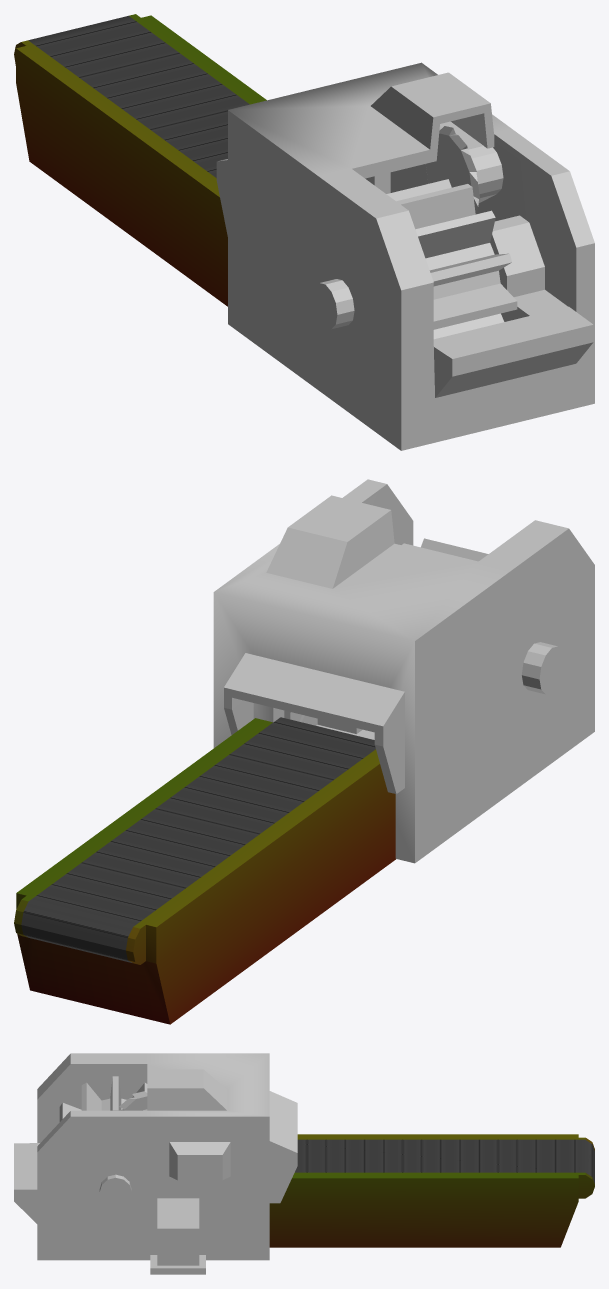
The model's file is stanok golovi.fbx.
3 views of the same model, one above another, from view 1: azimuth 30°, elevation 25°; view 2: azimuth 150°, elevation 25°; view 3: azimuth 270°, elevation 25° (orthographic). The views are drawn at different scales.
Visible parts, largest first — view 1: Object024, Object021, Object026, Object025; view 2: Object024, Object021, Object026; view 3: Object024, Object021, Object026, Object025.
Boxes of the visible parts, left/top/right/bottom form: Object024: left=14, top=14, right=594, bottom=450; Object021: left=28, top=15, right=249, bottom=177; Object026: left=313, top=179, right=517, bottom=339; Object025: left=425, top=125, right=480, bottom=214; Object024: left=14, top=479, right=594, bottom=1024; Object021: left=21, top=717, right=375, bottom=962; Object026: left=401, top=538, right=564, bottom=694; Object024: left=14, top=1053, right=594, bottom=1274; Object021: left=295, top=1139, right=594, bottom=1183; Object026: left=59, top=1076, right=147, bottom=1206; Object025: left=119, top=1091, right=147, bottom=1110.
Bounding box in the file's own units: 80.14 × 73.37 × 234.
